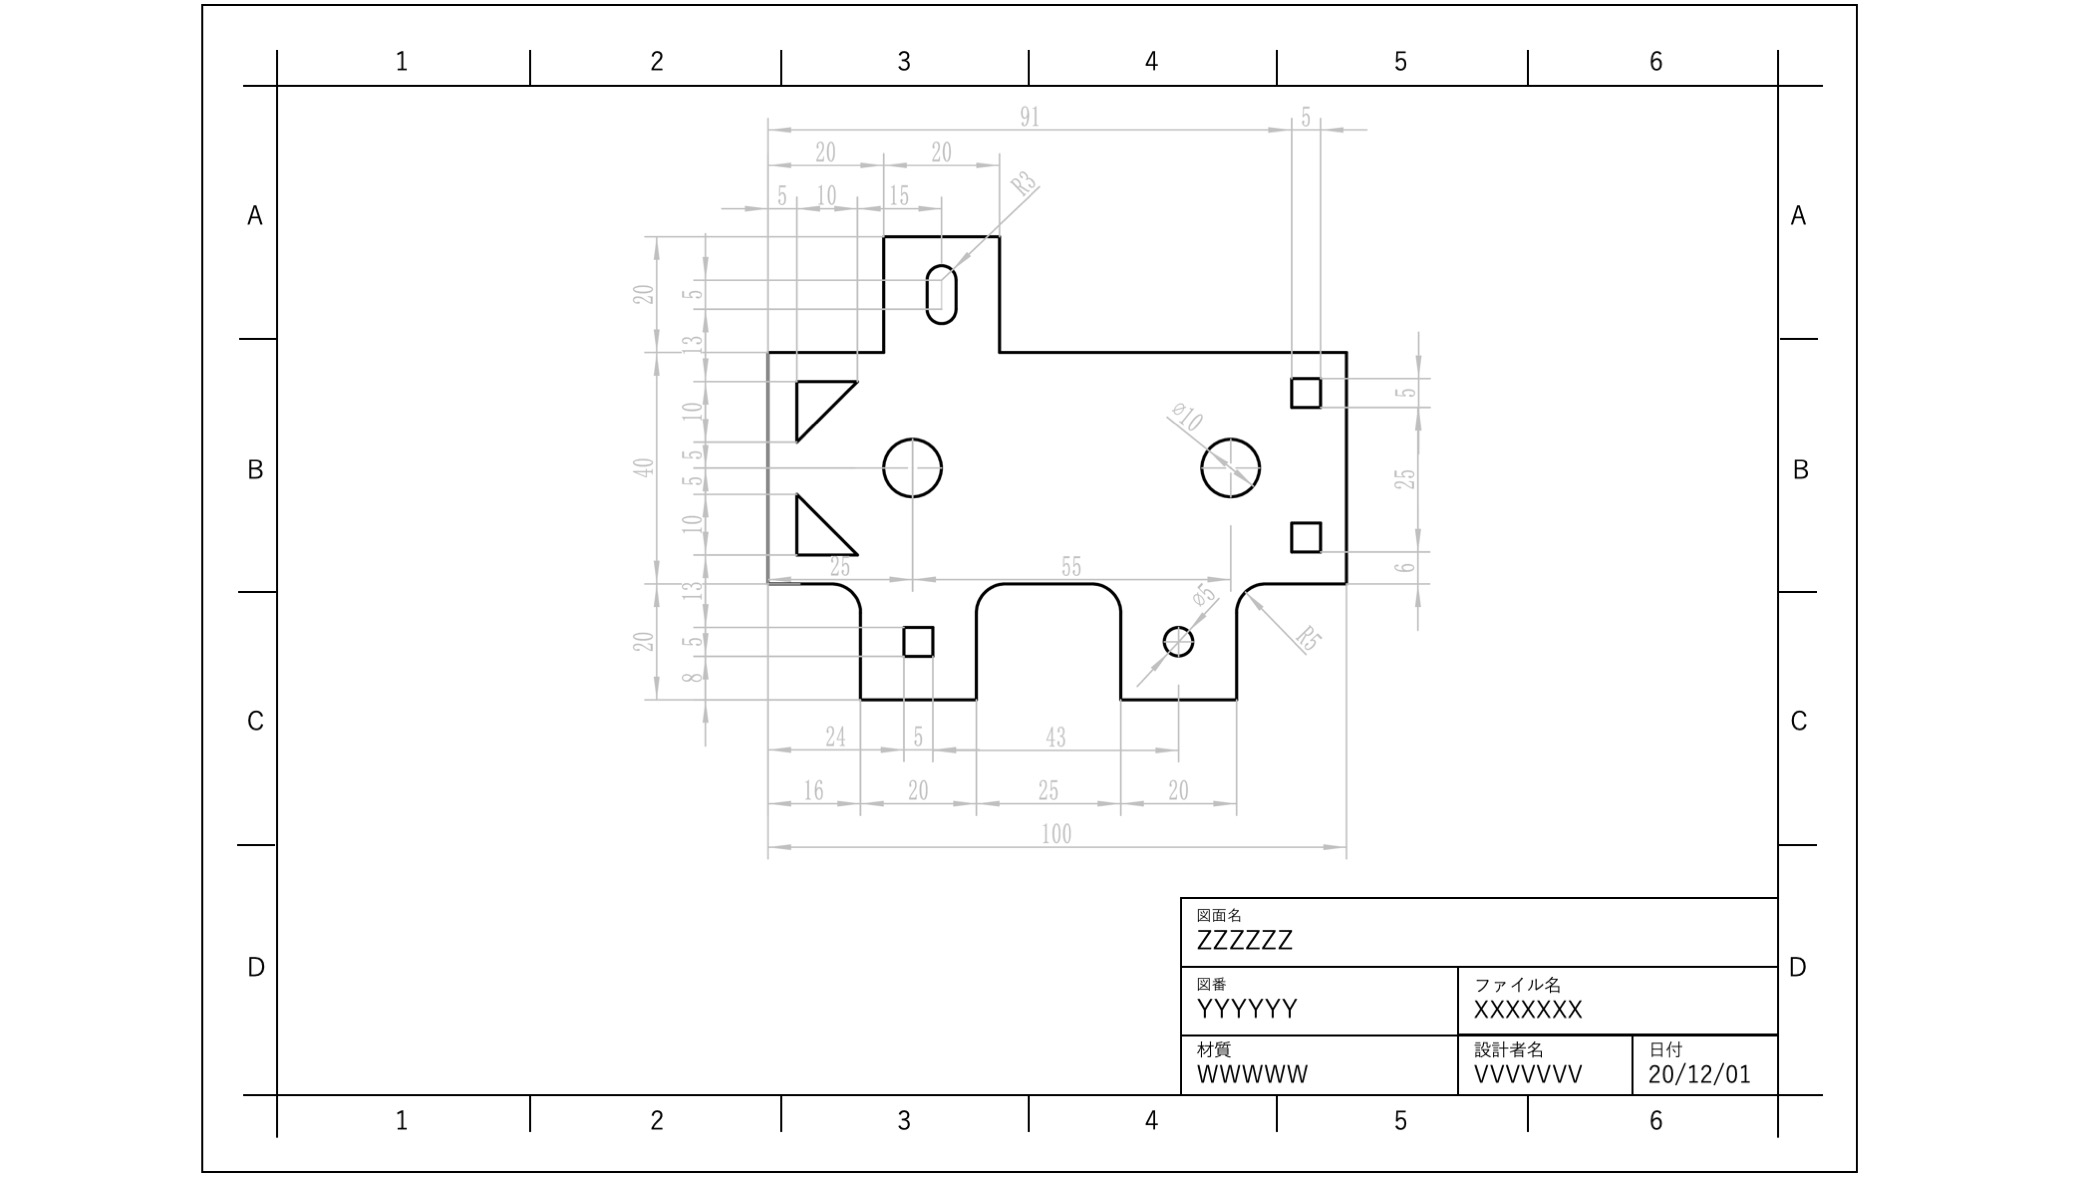circle: (877, 428, 950, 505), (1190, 428, 1265, 500), (1160, 616, 1200, 665)
rectangle: (893, 616, 945, 668), (1282, 366, 1330, 420), (1285, 508, 1328, 562)
round_rectangle: (922, 252, 961, 333)
triangle: (787, 485, 862, 564), (790, 366, 860, 447)
